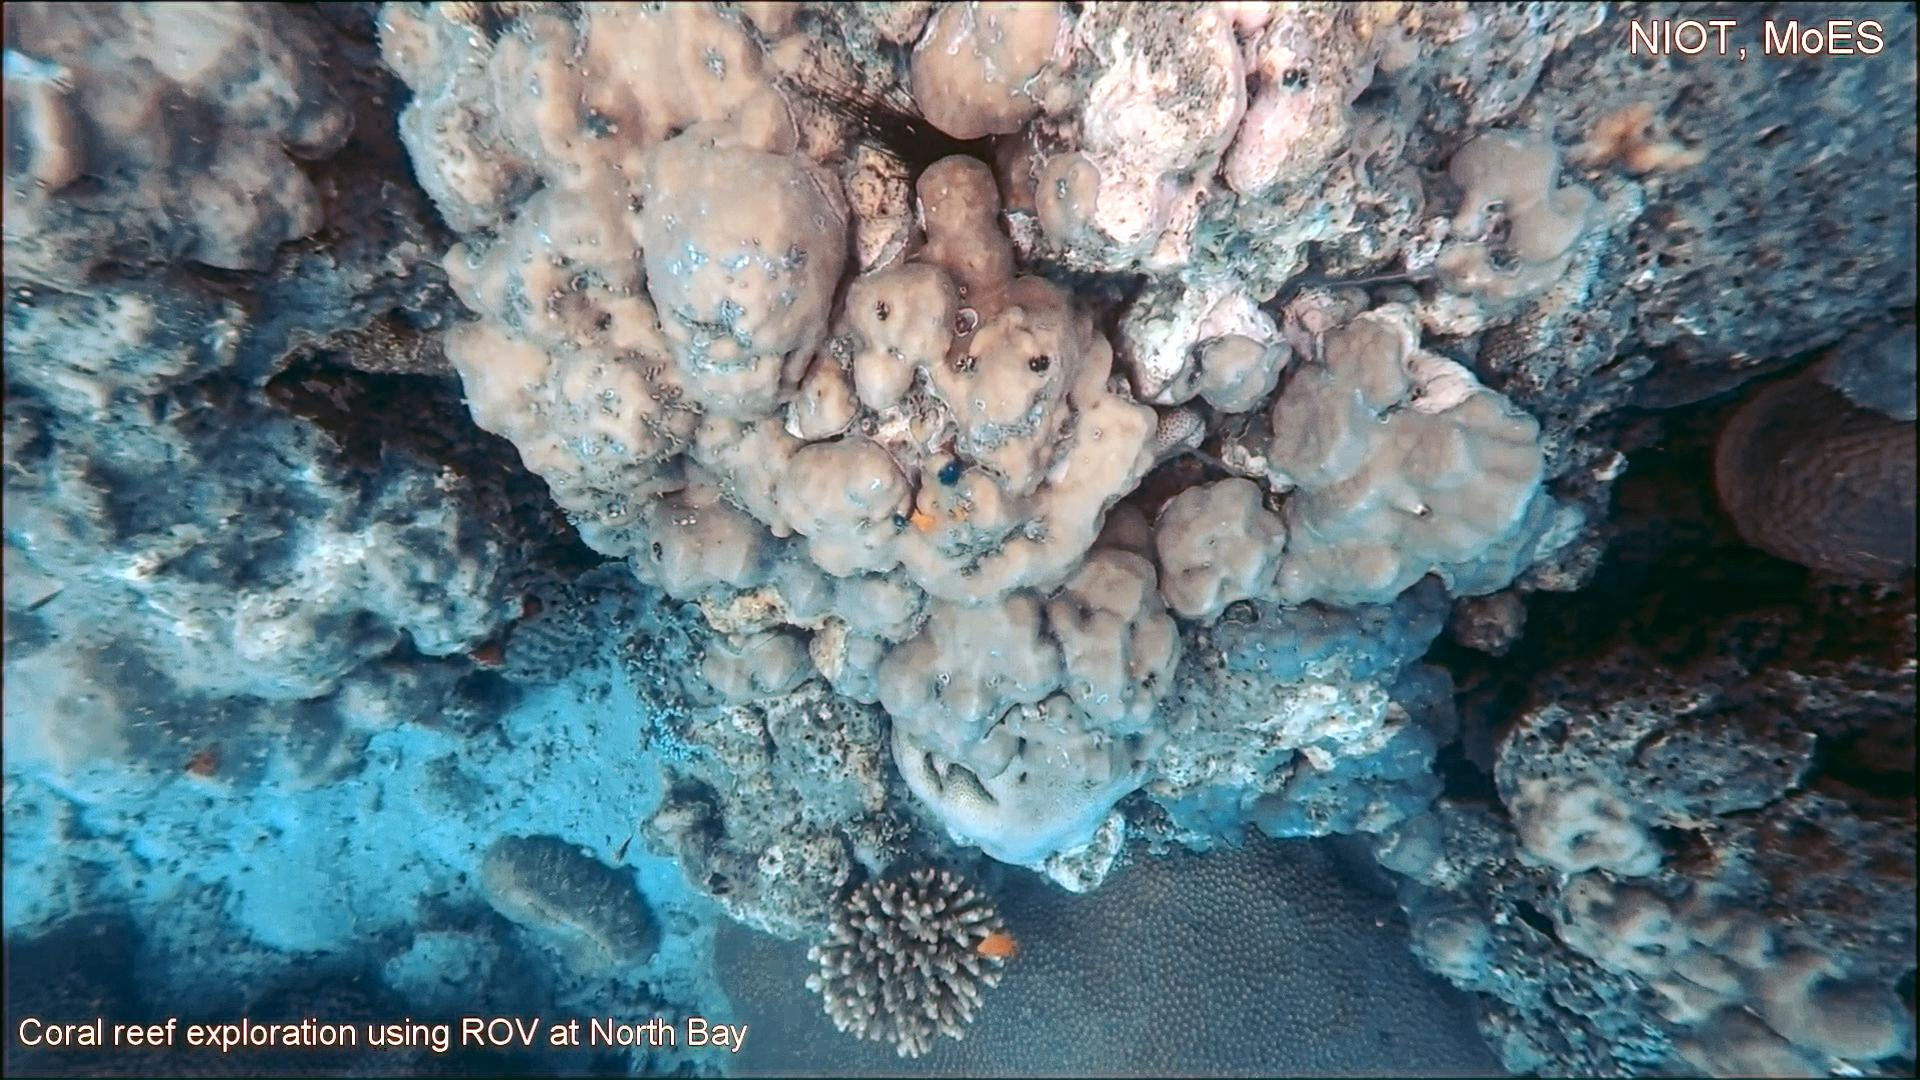Meandrina meandrites: (1706, 359, 1920, 589)
